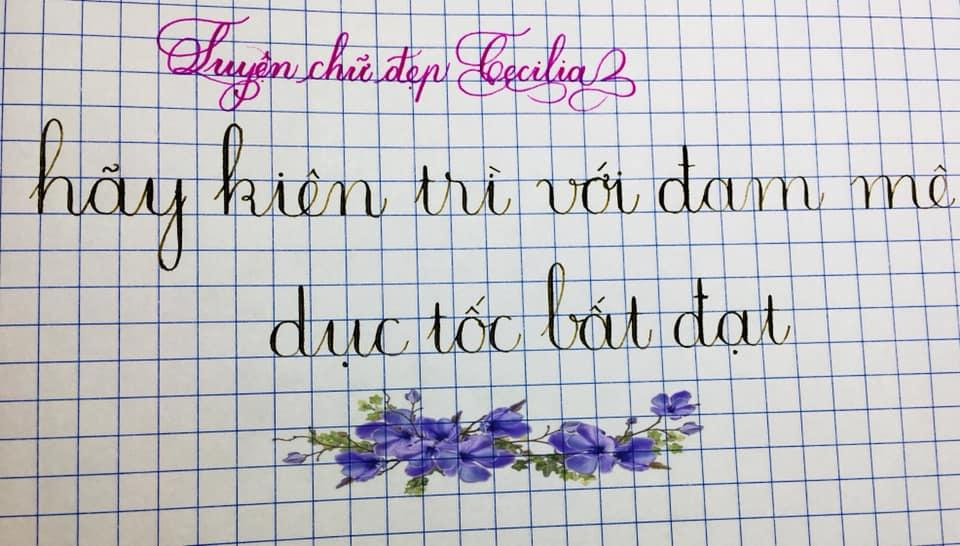text: (24, 115, 958, 275), (265, 260, 792, 371), (152, 14, 638, 116)
